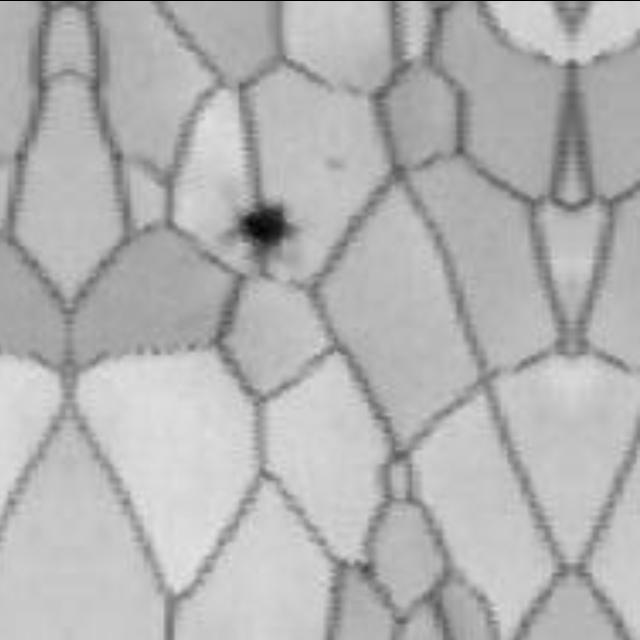good_void: (221, 194, 290, 264)
